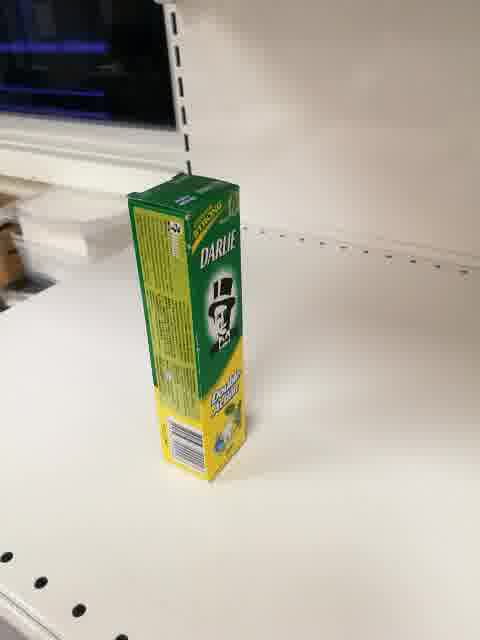toothpaste: (128, 172, 248, 486)
